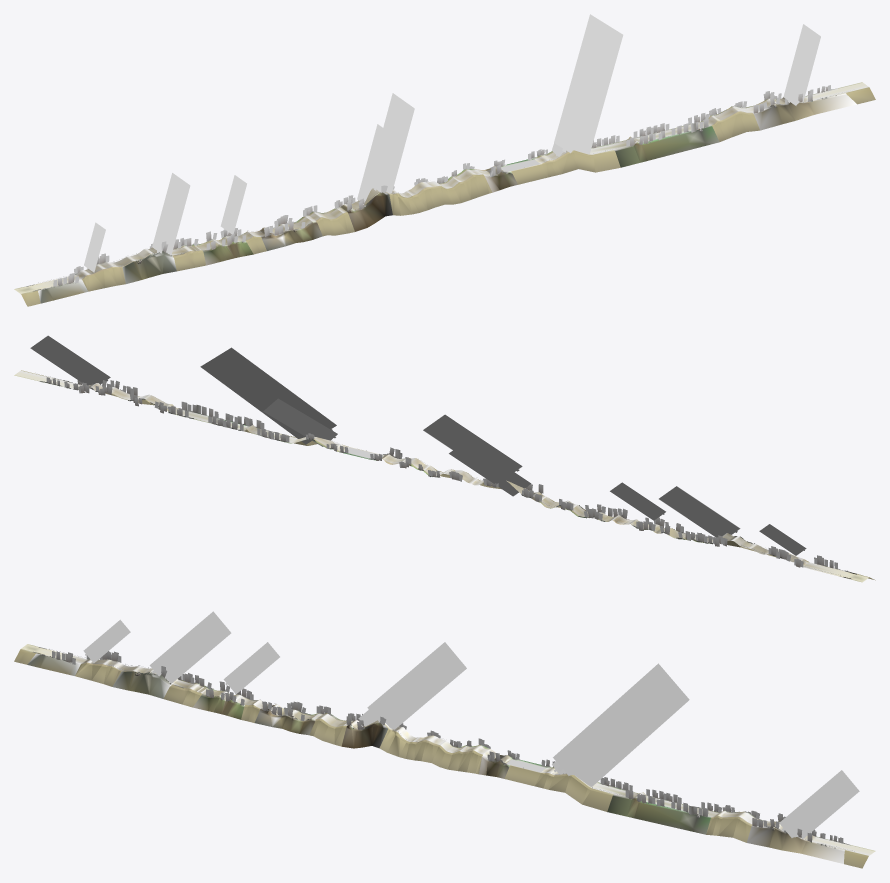
The model's file is Beach_02.fbx.
The picture shows the model from 3 angles, top to bottom: view 1: azimuth 30°, elevation 25°; view 2: azimuth 150°, elevation 25°; view 3: azimuth 330°, elevation 25°; orthographic projection.
Visible parts, largest first — view 1: Light_01, Mountain_01, Ground_01, Tree_01, Road_01; view 2: Light_01, Tree_01, Road_01, Ground_01; view 3: Light_01, Ground_01, Mountain_01, Tree_01, Road_01.
Part boxes in pixels (x1,y1,x2,y2): Light_01: (84, 14, 820, 272); Mountain_01: (38, 93, 856, 303); Ground_01: (14, 82, 875, 306); Tree_01: (43, 85, 837, 289); Road_01: (15, 83, 868, 293); Light_01: (30, 335, 806, 555); Tree_01: (39, 377, 849, 571); Road_01: (15, 370, 868, 581); Ground_01: (14, 370, 875, 582); Light_01: (83, 611, 859, 838); Ground_01: (14, 644, 875, 868); Mountain_01: (27, 653, 844, 863); Tree_01: (40, 651, 850, 848); Road_01: (21, 644, 874, 855).
Size of the model in its own units: 96704 by 13204 by 8091.
